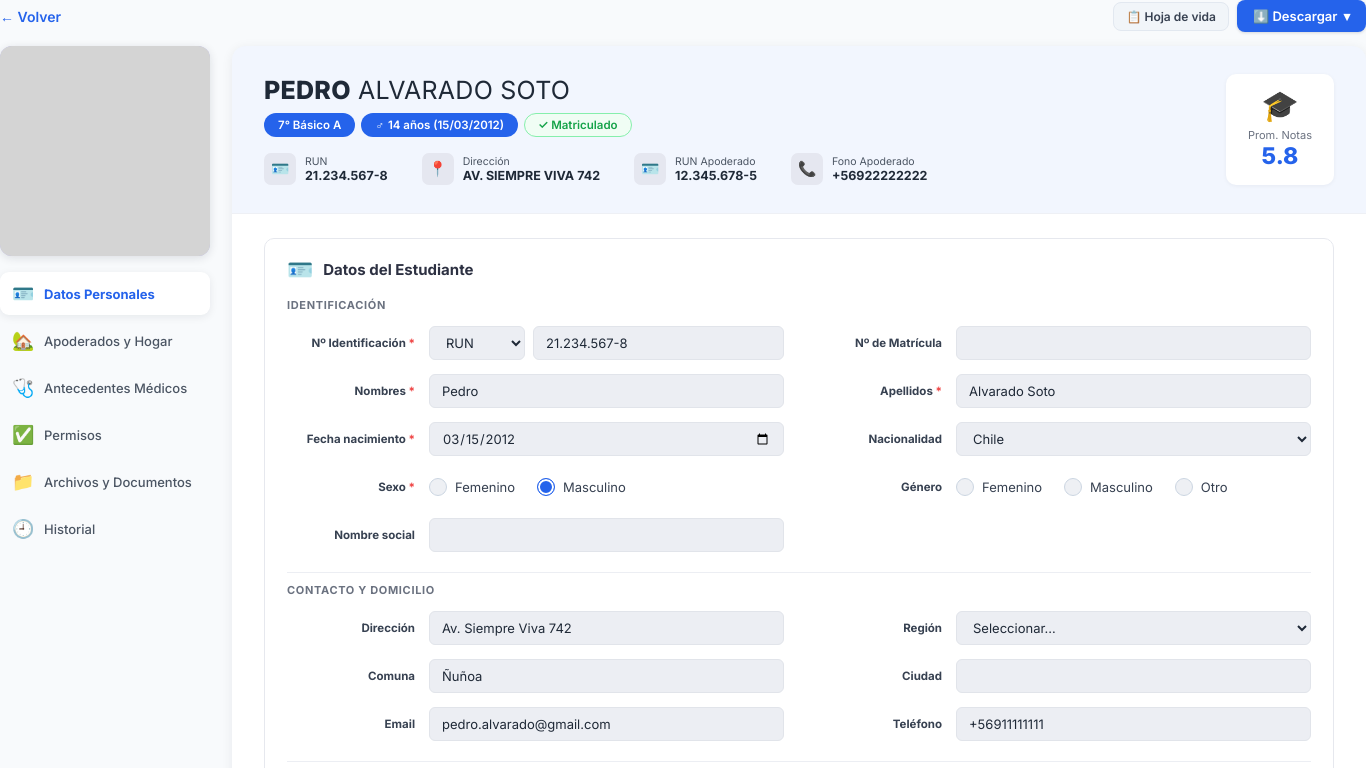
Test: Documentos muestra zona de subida y documentos con editar/quitar
Expected: the heading "Pedro Alvarado Soto" is shown, x1=264 y1=75 x2=570 y2=105
Click the button "📁 Archivos y Documentos".
click(105, 482)  # box x1=0 y1=460 x2=210 y2=503
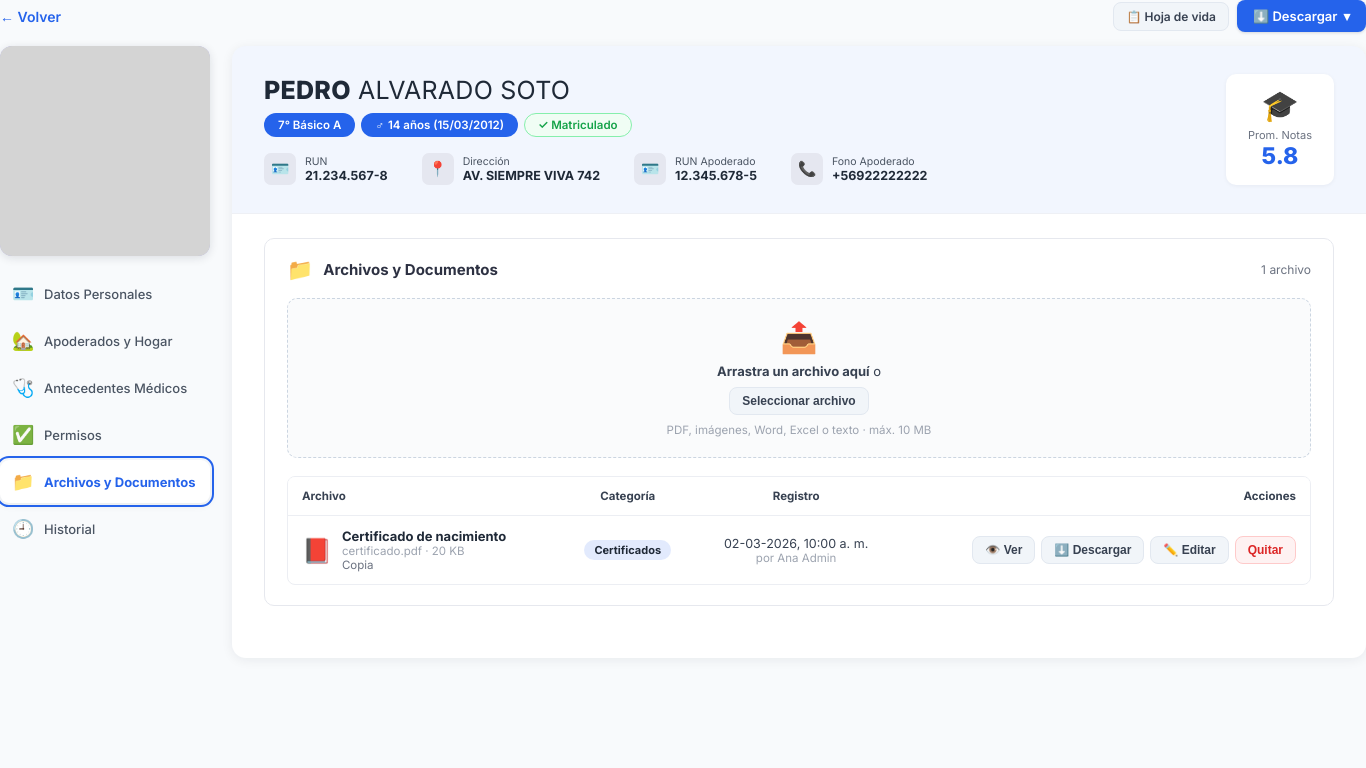
Expected: the heading "📁 Archivos y Documentos" is shown, x1=287 y1=259 x2=498 y2=280
Expected: the text "Arrastra un archivo aquí" is shown, x1=717 y1=363 x2=870 y2=379
Expected: the button "Seleccionar archivo" is shown, x1=729 y1=387 x2=869 y2=415
Click the button "✏️ Editar".
click(1189, 550)  # box x1=1150 y1=536 x2=1229 y2=564
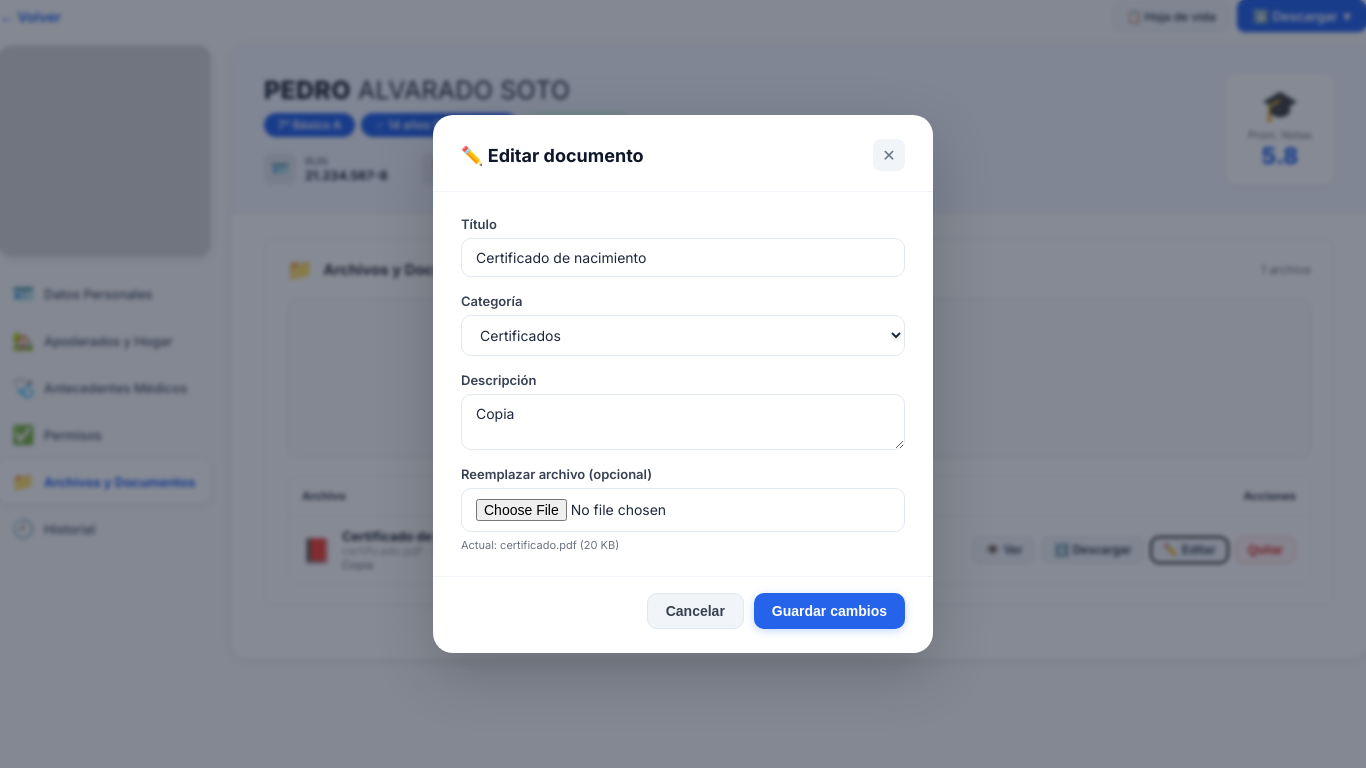
Expected: the dialog "Editar documento" is shown, x1=433 y1=115 x2=933 y2=653
